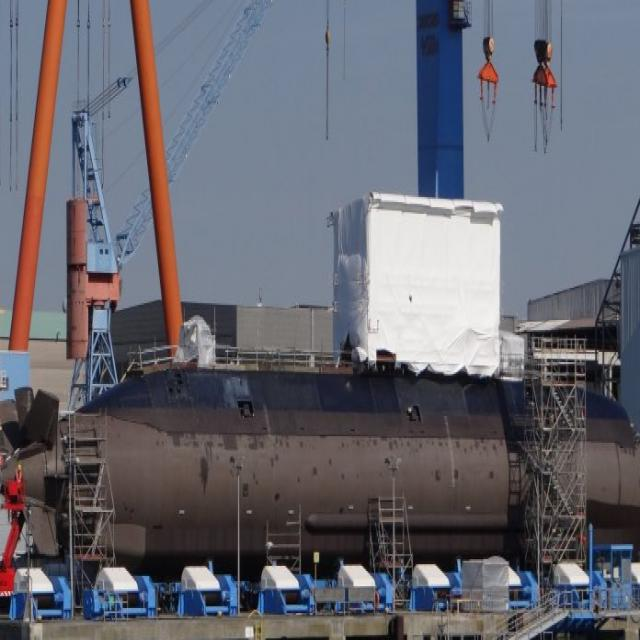submarine: (1, 185, 640, 579)
